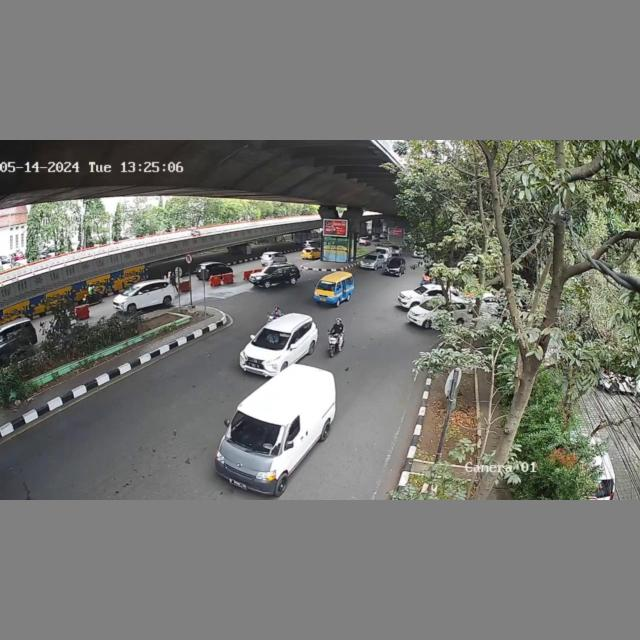windshield: (226, 412, 288, 456), (250, 327, 288, 349)
